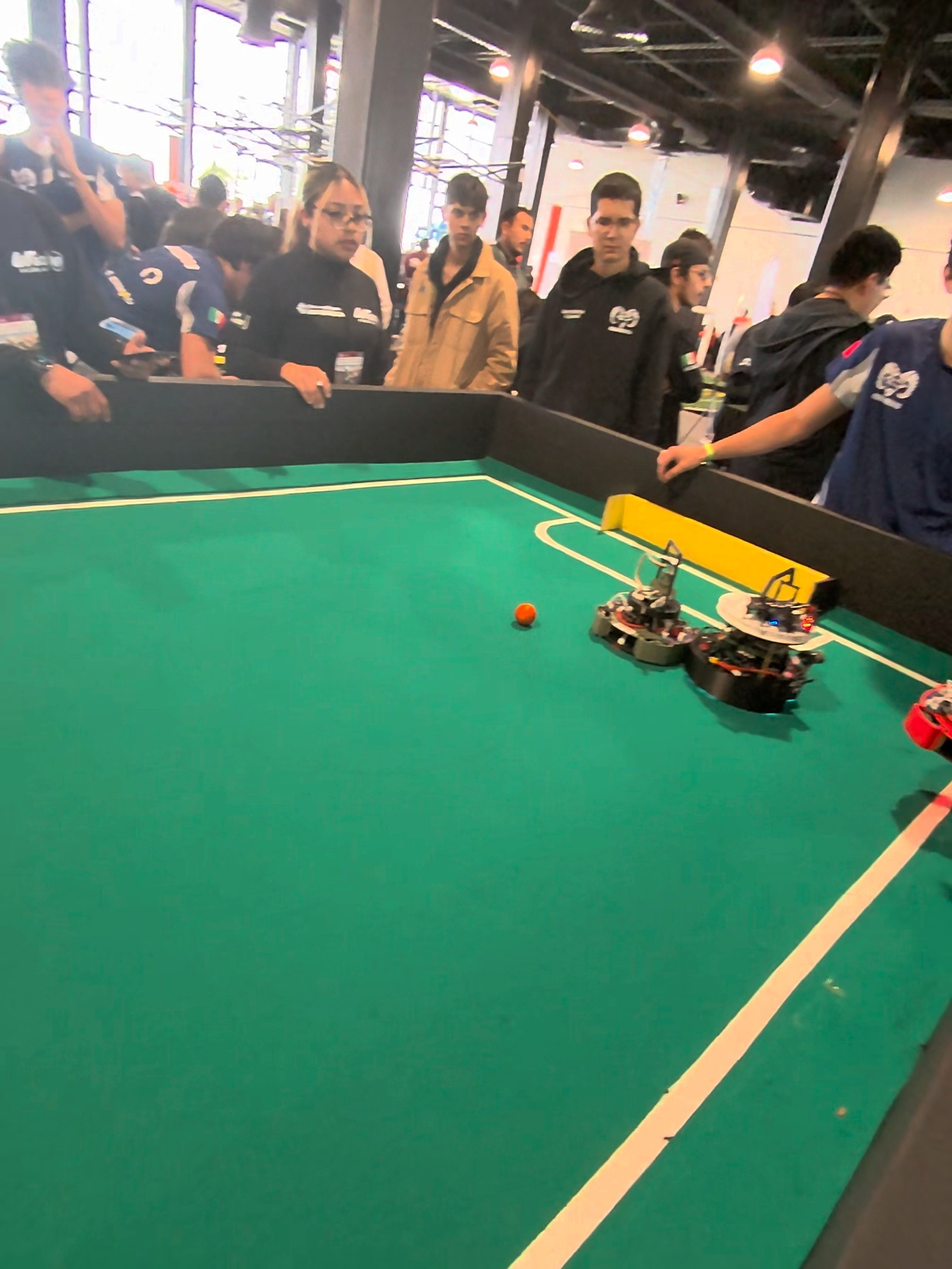Robot: (688, 557, 838, 734), (586, 527, 692, 673)
pelota: (514, 602, 537, 631)
